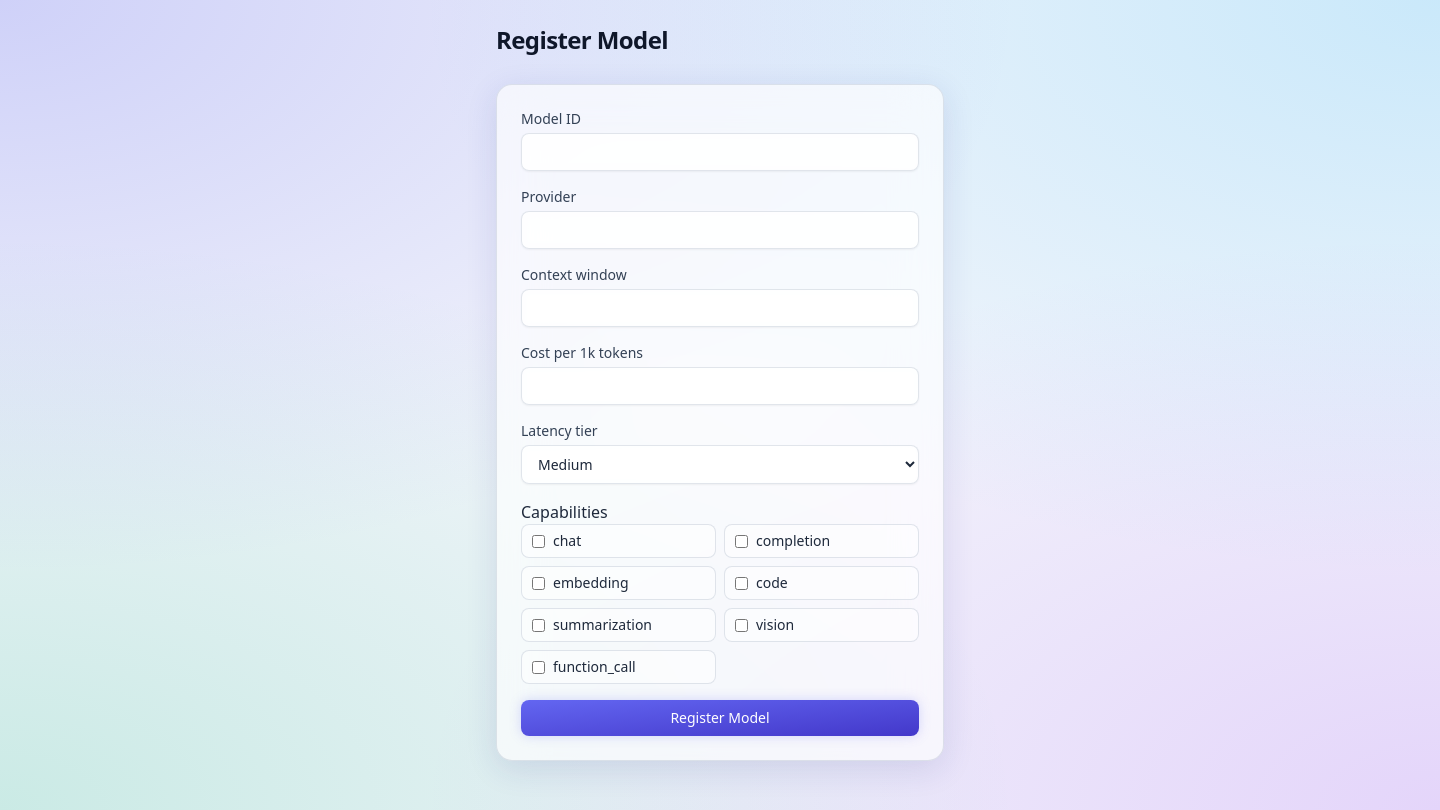
Test case: AddModelPage — AC-2 capability validation › shows 'Select at least one capability' when submitted with no capabilities
The image size is (1440, 810).
Type "gpt-4o" into the field labelled "Model ID" at (720, 152), box [521,133,919,171]
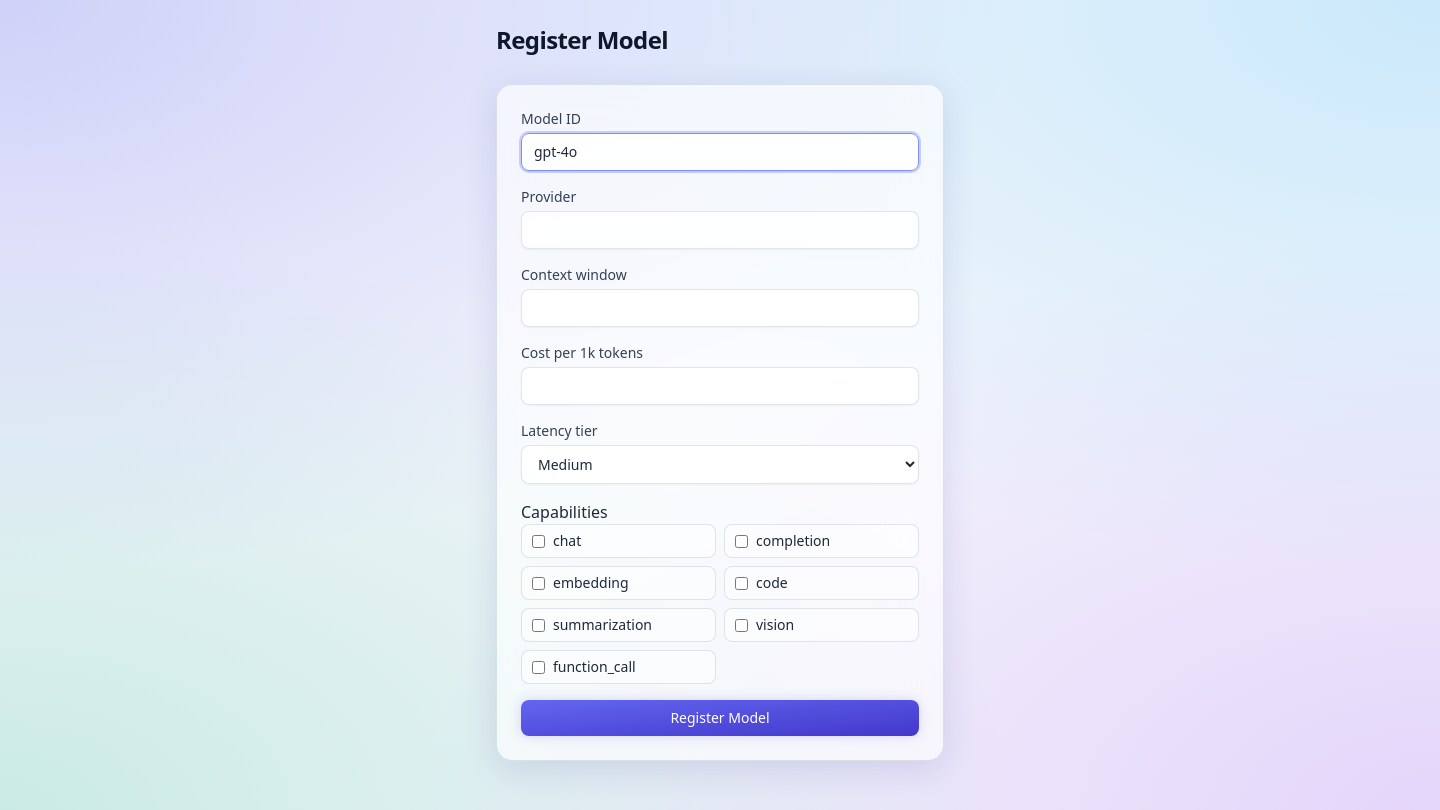
Type "openai" into the field labelled "Provider" at (720, 230), box [521,211,919,249]
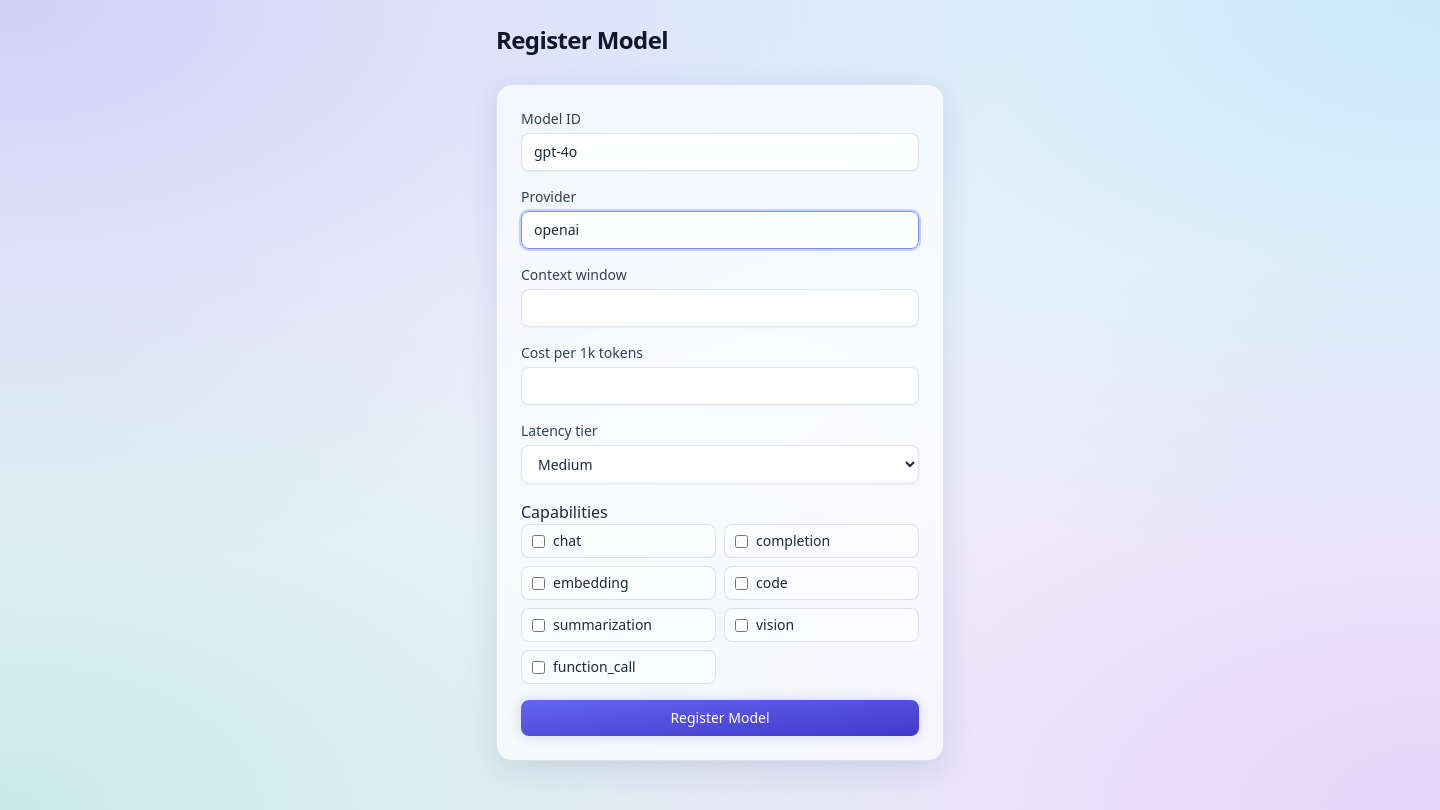
Type "128000" into the number field labelled "Context window" at (720, 308), box [521,289,919,327]
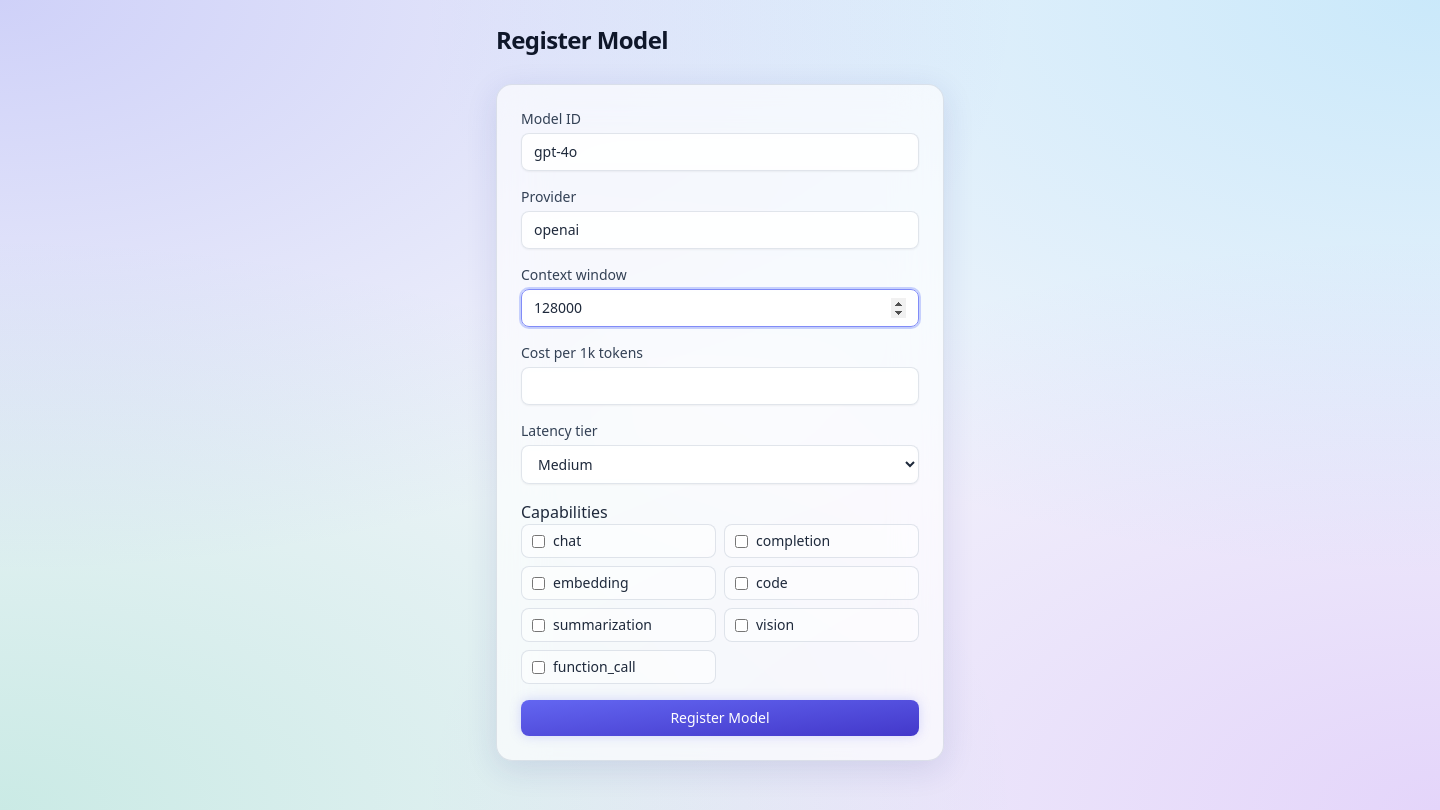
Type "0.005" into the number field labelled "Cost per 1k tokens" at (720, 386), box [521,367,919,405]
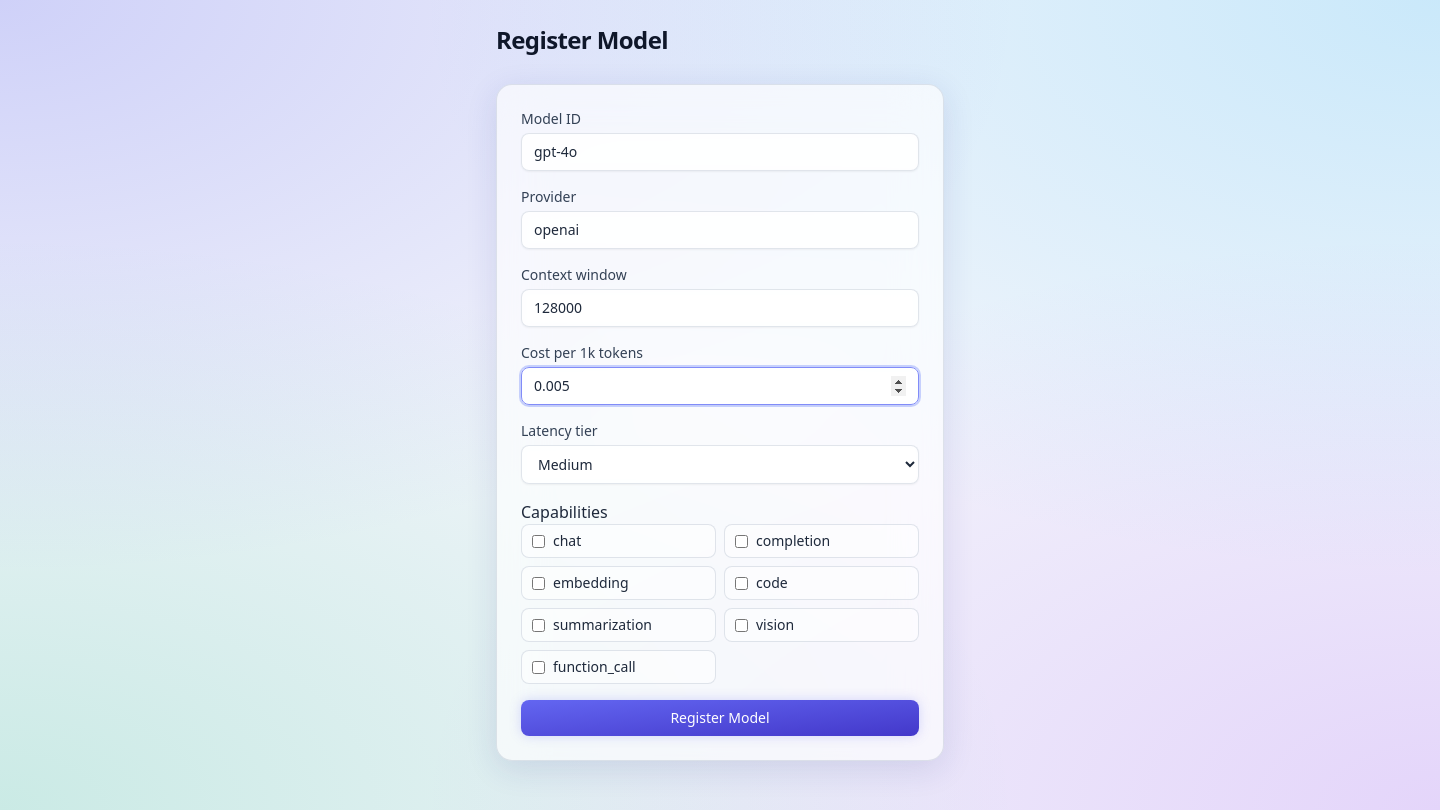
Click the button "Register Model" at (720, 718), box [521,700,919,736]
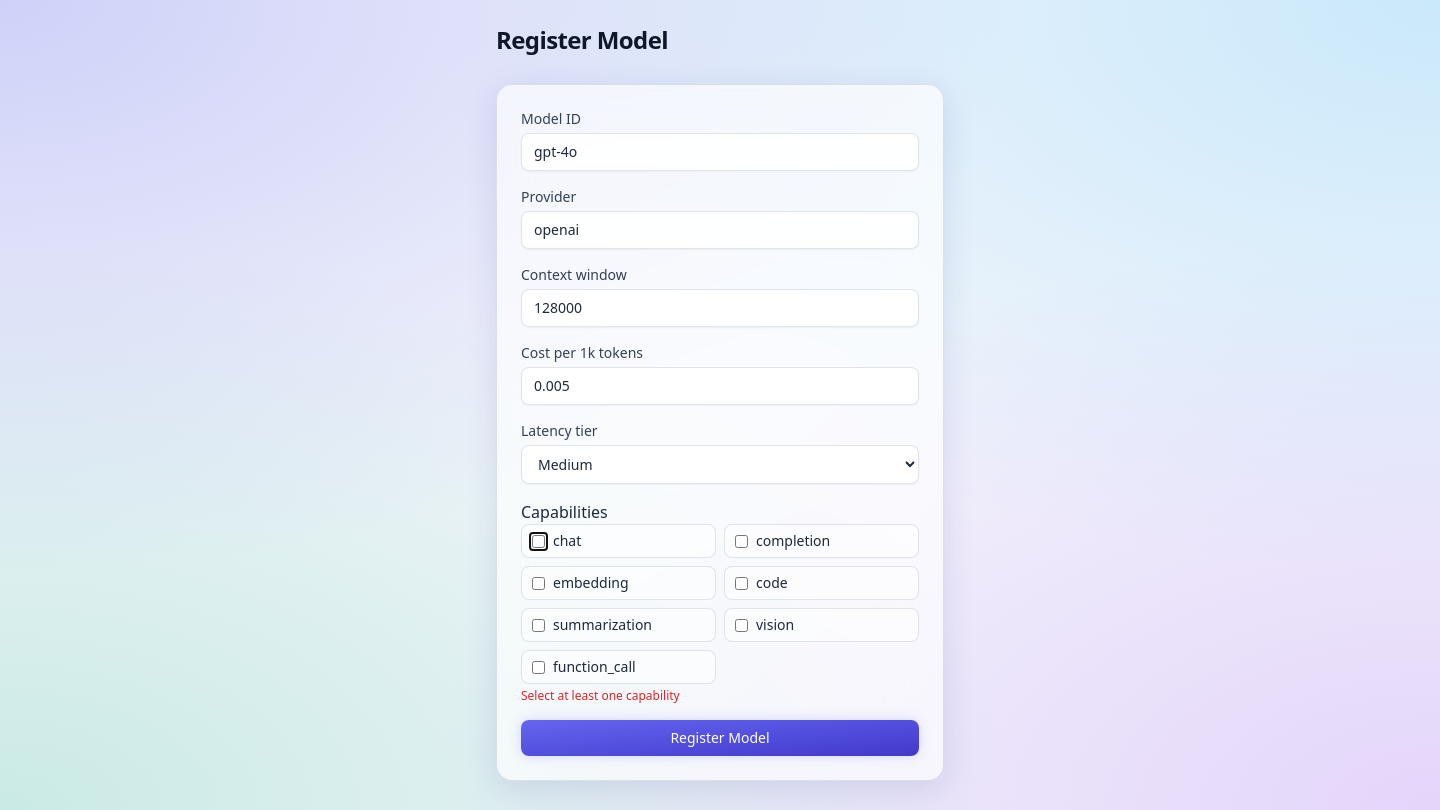
Expected: the text "Select at least one capability" is shown, [521,687,680,704]
